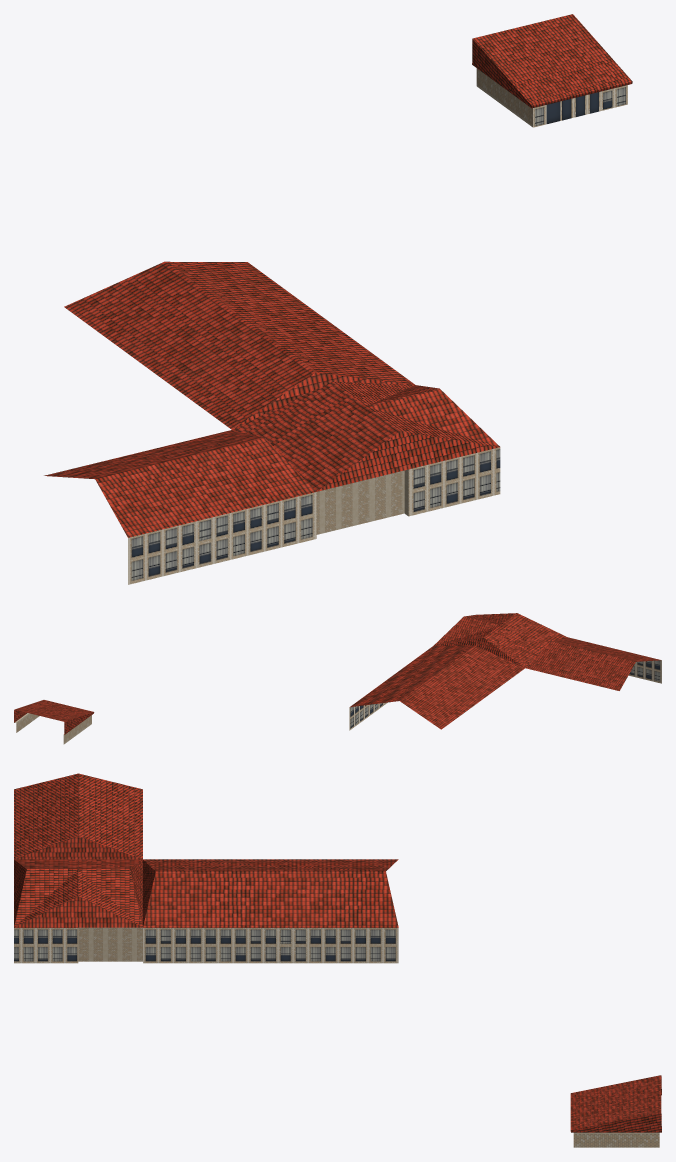
The model's file is building2.dae.
3 renders of one model, top to bottom at view 1: azimuth 30°, elevation 25°; view 2: azimuth 150°, elevation 25°; view 3: azimuth 270°, elevation 25°, orthographic. The views are drawn at different scales.
Visible parts, largest first — view 1: building2; view 2: building2; view 3: building2.
Part boxes in pixels (x1,y1,x2,y2): building2: (44,14,632,584); building2: (14,613,661,744); building2: (14,773,661,1147).
Size of the model in its own units: 22.02 by 18.65 by 1.92.
1 material, 1 textured.
